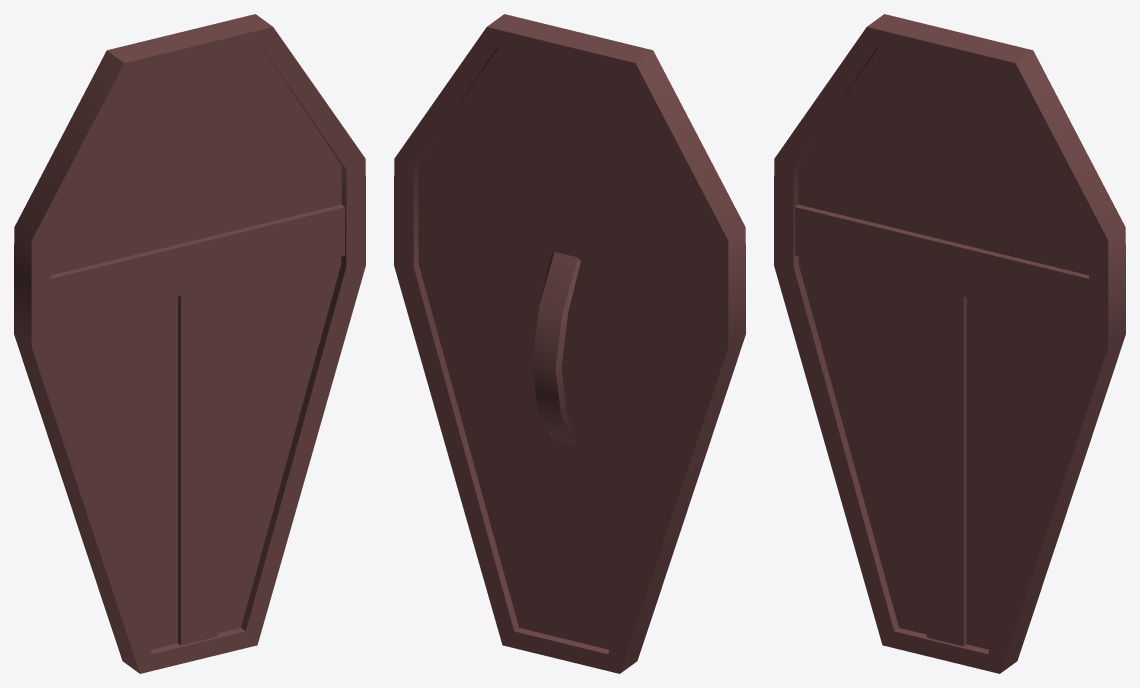
Rendered from SM_shield_long_02.fbx.
3 views of the same model, side by side, from view 1: azimuth 30°, elevation 25°; view 2: azimuth 150°, elevation 25°; view 3: azimuth 330°, elevation 25° (orthographic).
Visible parts, largest first — view 1: Box014; view 2: Box014; view 3: Box014.
Part boxes in pixels (bbox=[...]): Box014: bbox=[14, 14, 365, 673]; Box014: bbox=[394, 14, 745, 673]; Box014: bbox=[774, 14, 1125, 673].
Bounding box in the file's own units: 22.04 × 38.71 × 4.04.
